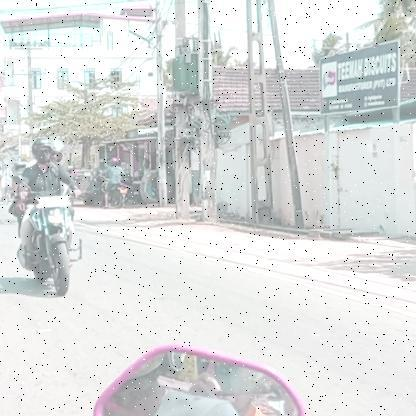motorcycle: (8, 188, 90, 301)
